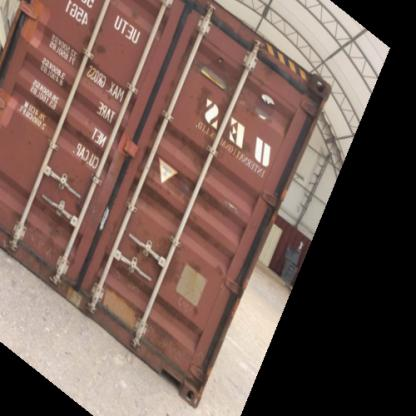Damage: (197, 87, 253, 150), (128, 228, 188, 286), (17, 207, 73, 259), (201, 46, 243, 83), (46, 111, 84, 150), (76, 27, 103, 77)
